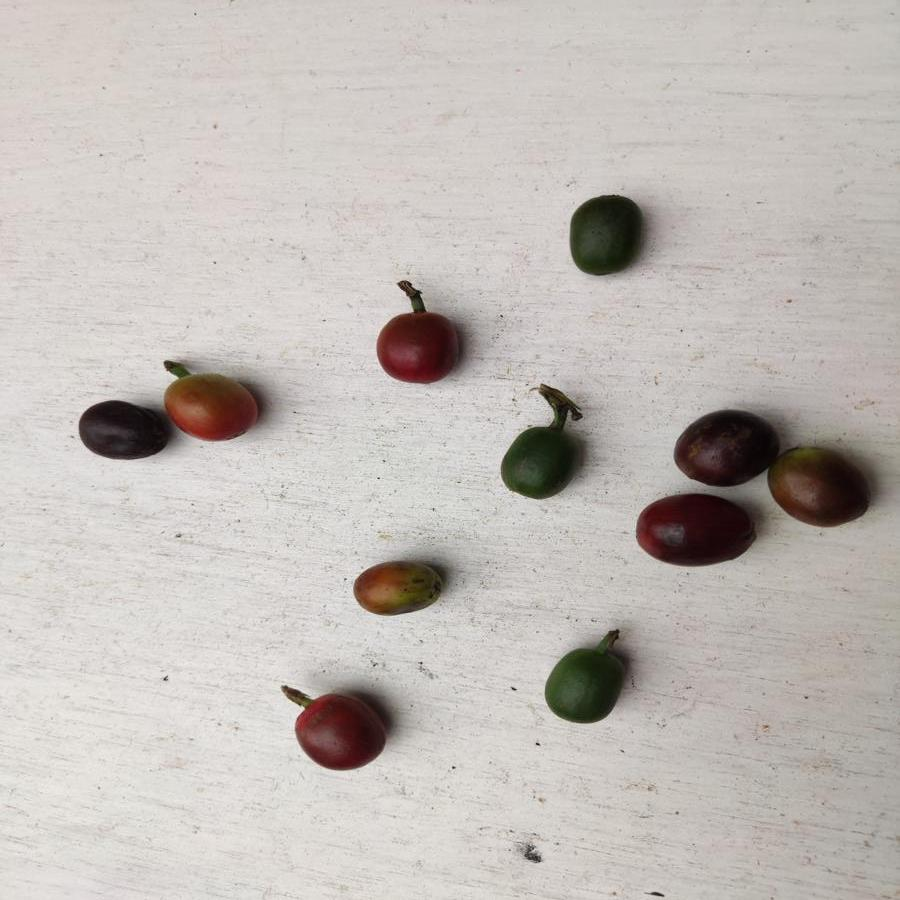Inmaduro: (544, 645, 631, 732), (500, 423, 582, 505), (566, 196, 644, 274)
Pinton: (770, 440, 876, 533), (162, 369, 258, 445), (299, 690, 388, 770), (353, 559, 446, 615)
Sobremaduro: (666, 404, 777, 489), (632, 493, 761, 566), (372, 307, 466, 389), (80, 397, 162, 459)
